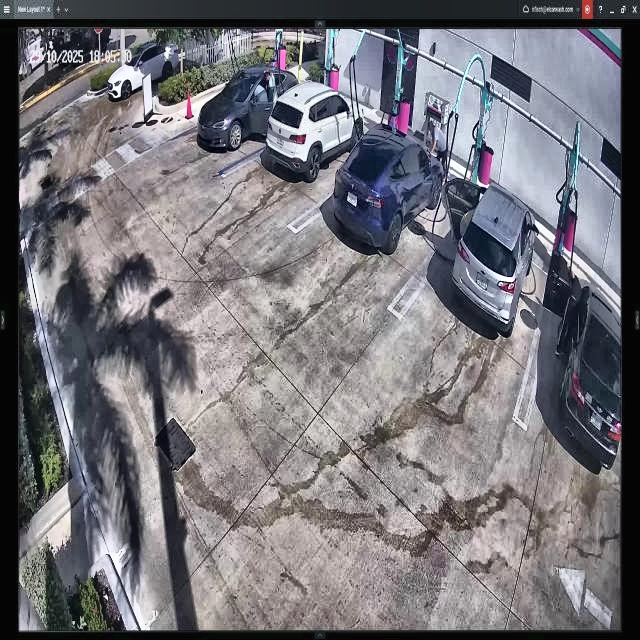Car: (443, 174, 534, 331), (334, 128, 444, 253), (194, 67, 298, 154), (269, 84, 364, 178)
